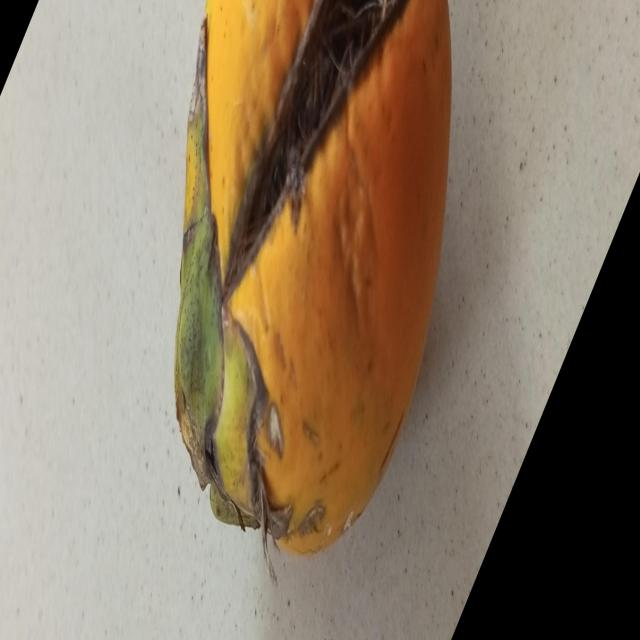damaged: (174, 0, 451, 554)
